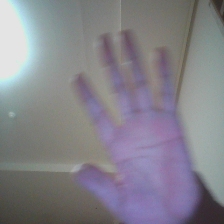hand: (69, 31, 203, 222)
